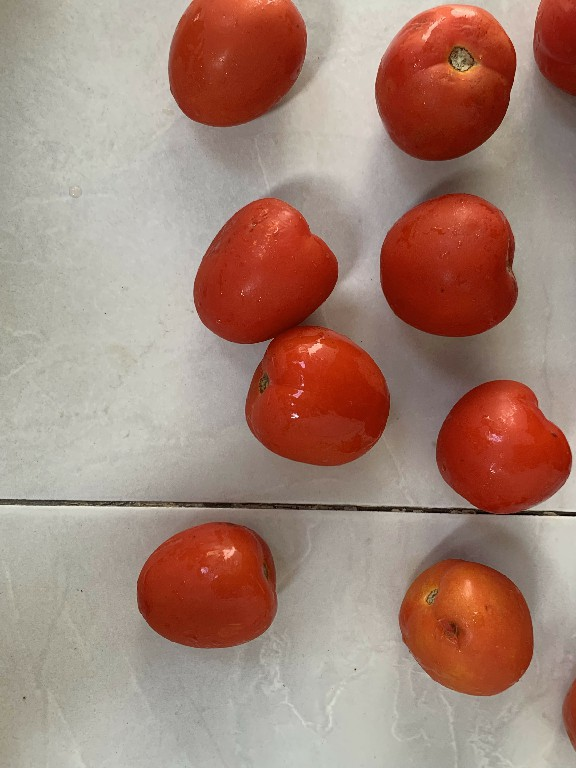NG: (387, 552, 543, 700)
OK: (187, 196, 346, 349), (373, 191, 528, 342), (371, 0, 513, 162), (127, 516, 285, 649), (241, 326, 387, 465), (433, 376, 576, 515), (166, 3, 312, 128)
